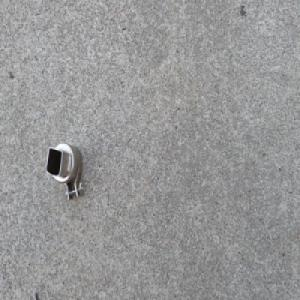MetalPart: (43, 141, 85, 202)
